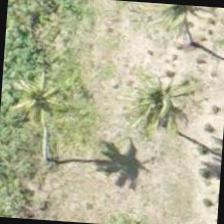Kelapa_Sawit: (104, 56, 200, 152), (0, 111, 91, 208), (141, 2, 223, 72)
